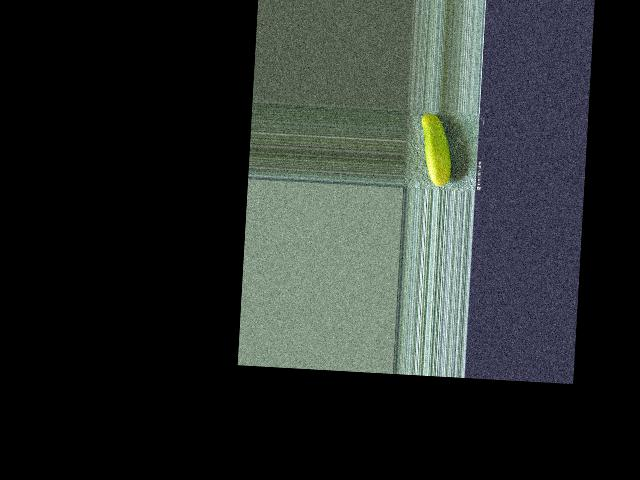cucumber: (418, 112, 454, 186)
